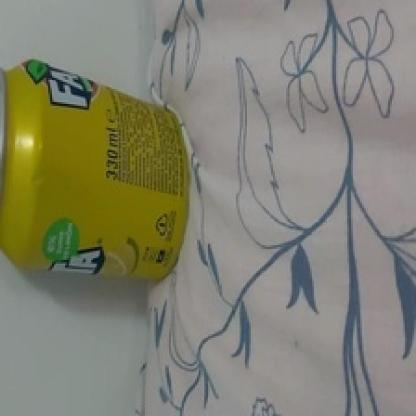Can: (0, 59, 193, 284)
